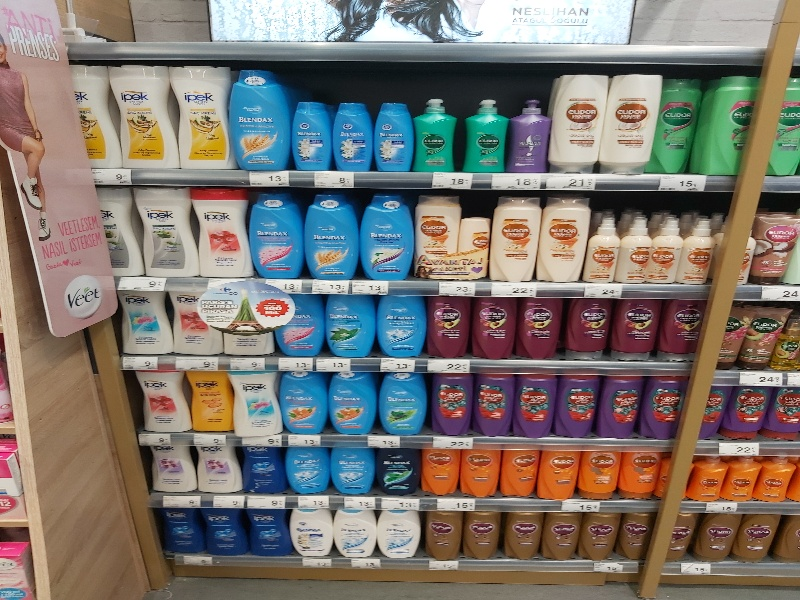product: (167, 59, 229, 175), (226, 60, 288, 176), (599, 69, 664, 176), (117, 64, 180, 171), (131, 181, 195, 281), (693, 73, 753, 174), (548, 66, 602, 176), (535, 193, 593, 282), (196, 183, 250, 278), (246, 185, 300, 280), (302, 193, 356, 288), (358, 188, 412, 283), (410, 190, 464, 285), (70, 65, 115, 175), (490, 189, 542, 282), (747, 211, 799, 293), (115, 284, 173, 353), (285, 96, 332, 178), (325, 95, 372, 177), (365, 94, 412, 176), (409, 92, 456, 174), (459, 97, 506, 179), (498, 96, 545, 178), (168, 291, 226, 355), (740, 305, 796, 370), (133, 365, 189, 428), (271, 294, 327, 355), (142, 436, 198, 495), (277, 371, 327, 433), (230, 369, 280, 431), (327, 292, 377, 354), (377, 293, 427, 355), (326, 369, 376, 431), (378, 371, 428, 433), (187, 373, 233, 436), (454, 207, 491, 283), (426, 295, 472, 356), (425, 369, 471, 430), (474, 299, 520, 360), (519, 298, 565, 359), (564, 298, 610, 359), (613, 298, 659, 359), (596, 375, 642, 436), (555, 375, 601, 436), (514, 378, 560, 439), (466, 376, 512, 437), (659, 297, 705, 358), (238, 447, 289, 498), (723, 388, 773, 438), (693, 513, 743, 563), (735, 511, 785, 561), (197, 504, 249, 552), (331, 440, 376, 494), (378, 443, 423, 497), (460, 444, 506, 496), (497, 445, 543, 497), (536, 447, 582, 499), (577, 447, 623, 499), (618, 447, 664, 499), (586, 215, 622, 281), (619, 215, 655, 281), (647, 215, 683, 281), (680, 217, 716, 283), (157, 503, 201, 557), (194, 444, 242, 493), (249, 509, 293, 561), (292, 506, 336, 558), (333, 506, 377, 558), (376, 506, 420, 558), (419, 445, 463, 497), (286, 443, 332, 492), (461, 507, 503, 559), (501, 507, 543, 559), (541, 507, 583, 559), (577, 507, 619, 559), (613, 507, 655, 559), (420, 508, 461, 557), (687, 455, 729, 499), (727, 453, 762, 500), (757, 453, 792, 498)
